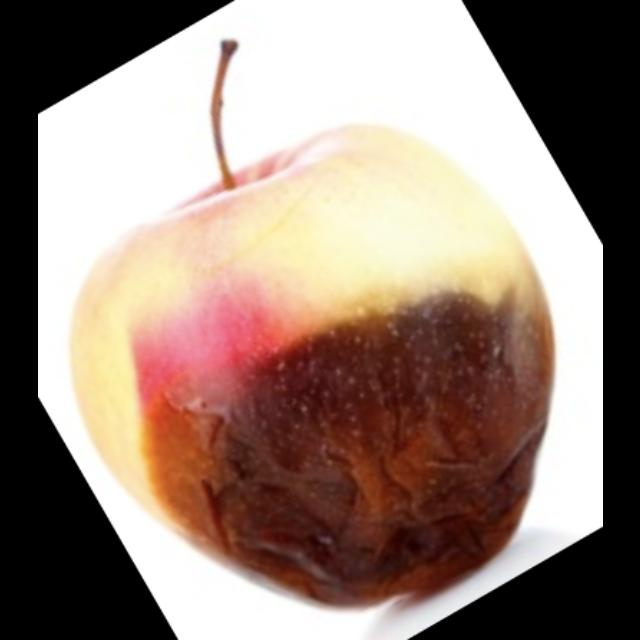Apel Tidak Segar: (71, 119, 557, 614)
